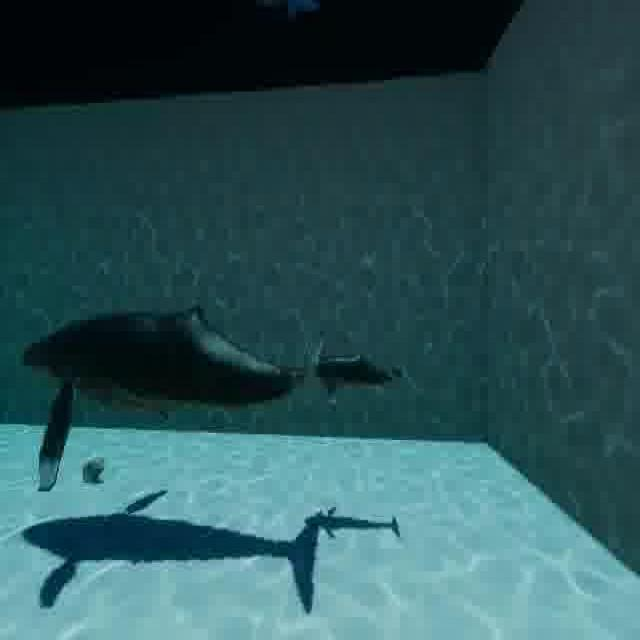Whale: (9, 278, 301, 492)
